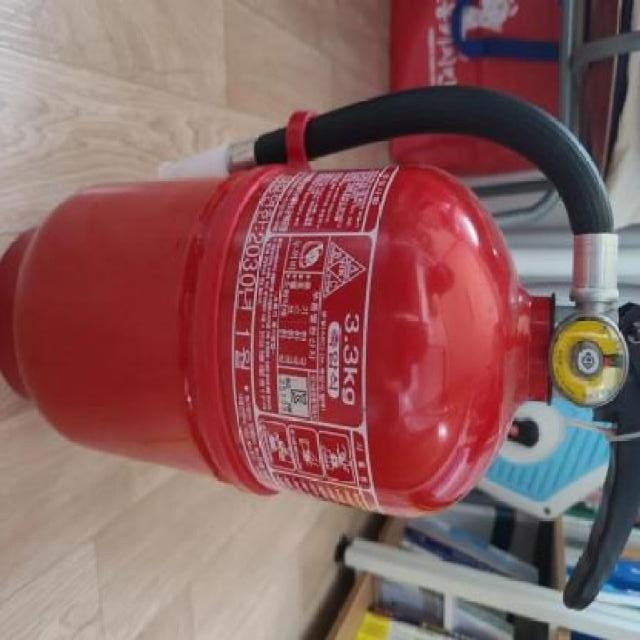fire extinguisher: (0, 83, 640, 612)
